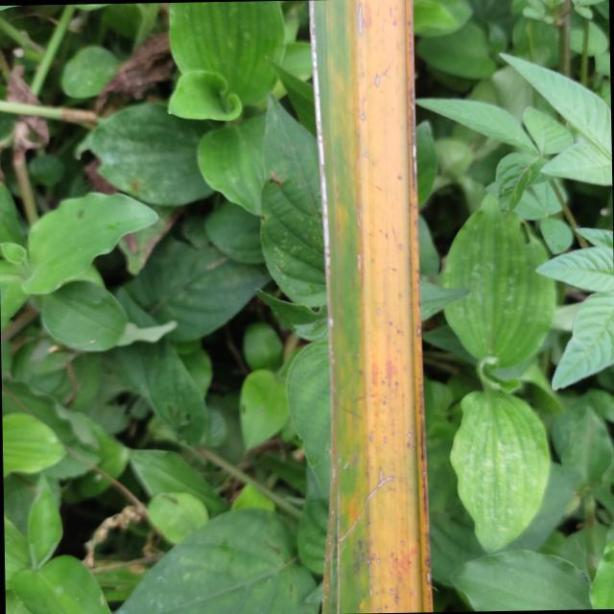Megnesium: (308, 1, 433, 614)
